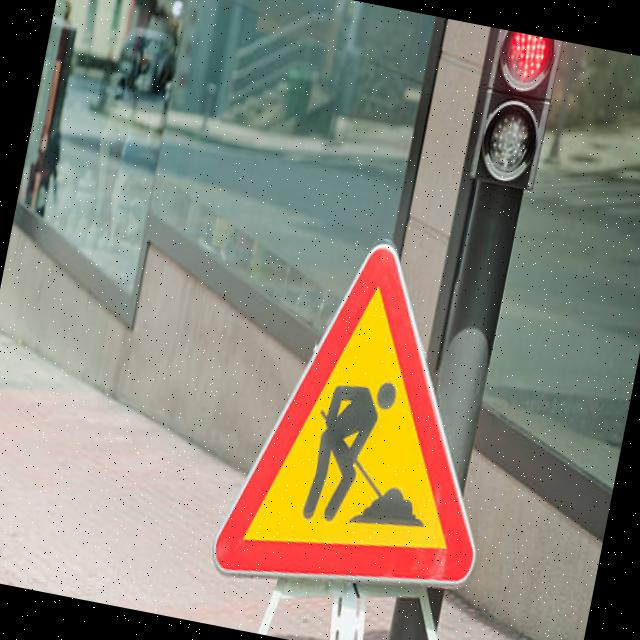road_work: (208, 220, 532, 608)
